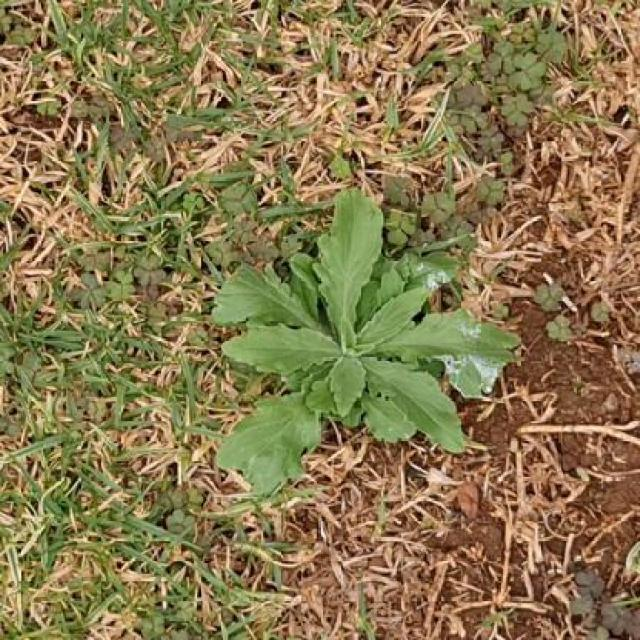weed: (217, 191, 520, 495)
